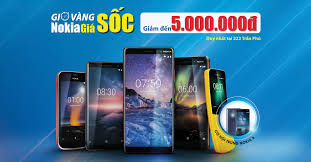nokia: (121, 44, 176, 152)
